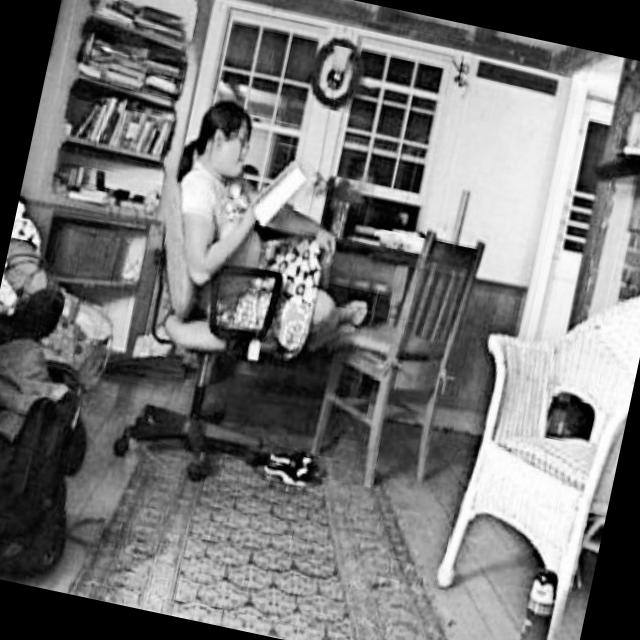Person: (146, 89, 403, 362)
